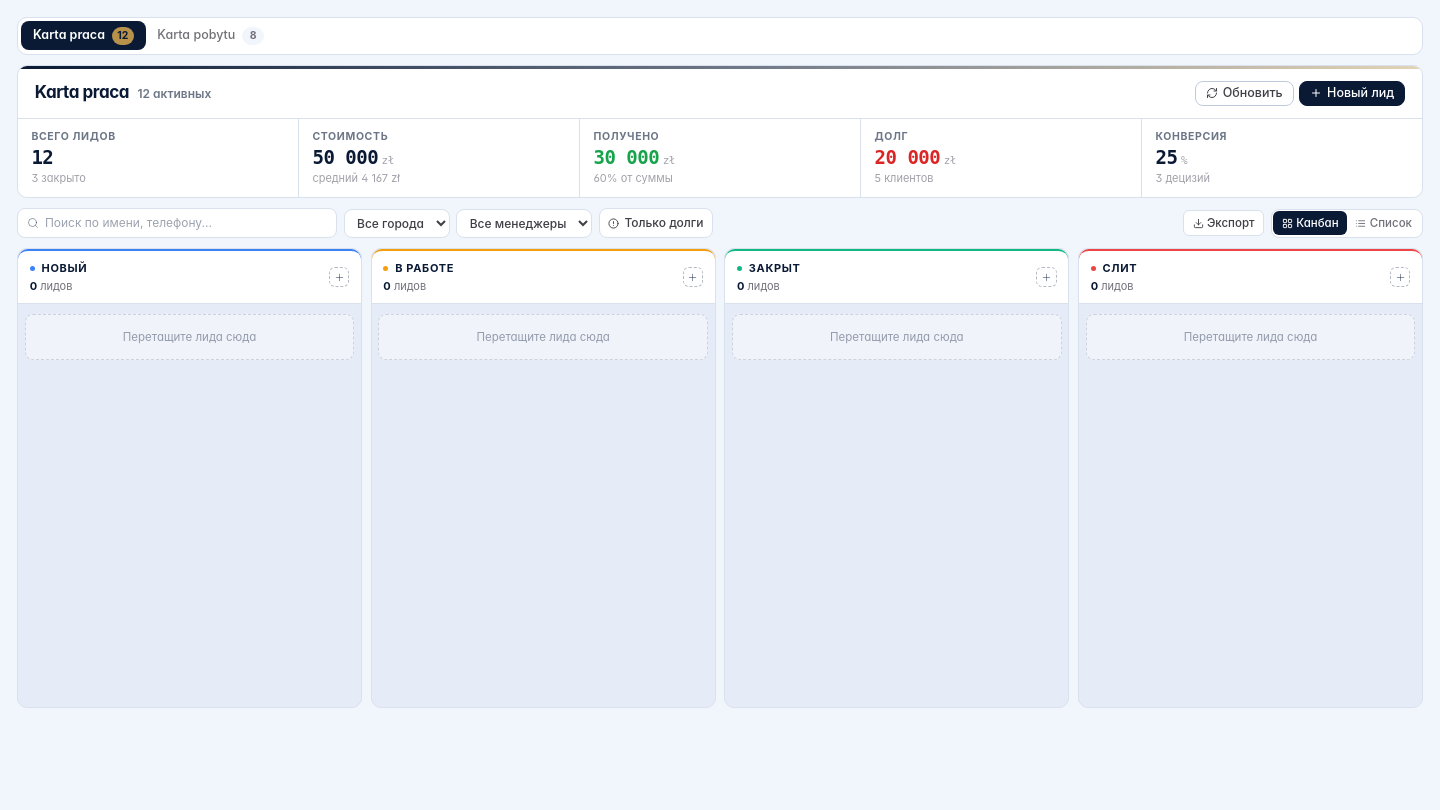
Test: FunnelView — переключение Kanban/List › клик «Список» переключает на list view
Click the button with test id "view-list".
click(1384, 223)  # box left=1347, top=211, right=1420, bottom=235
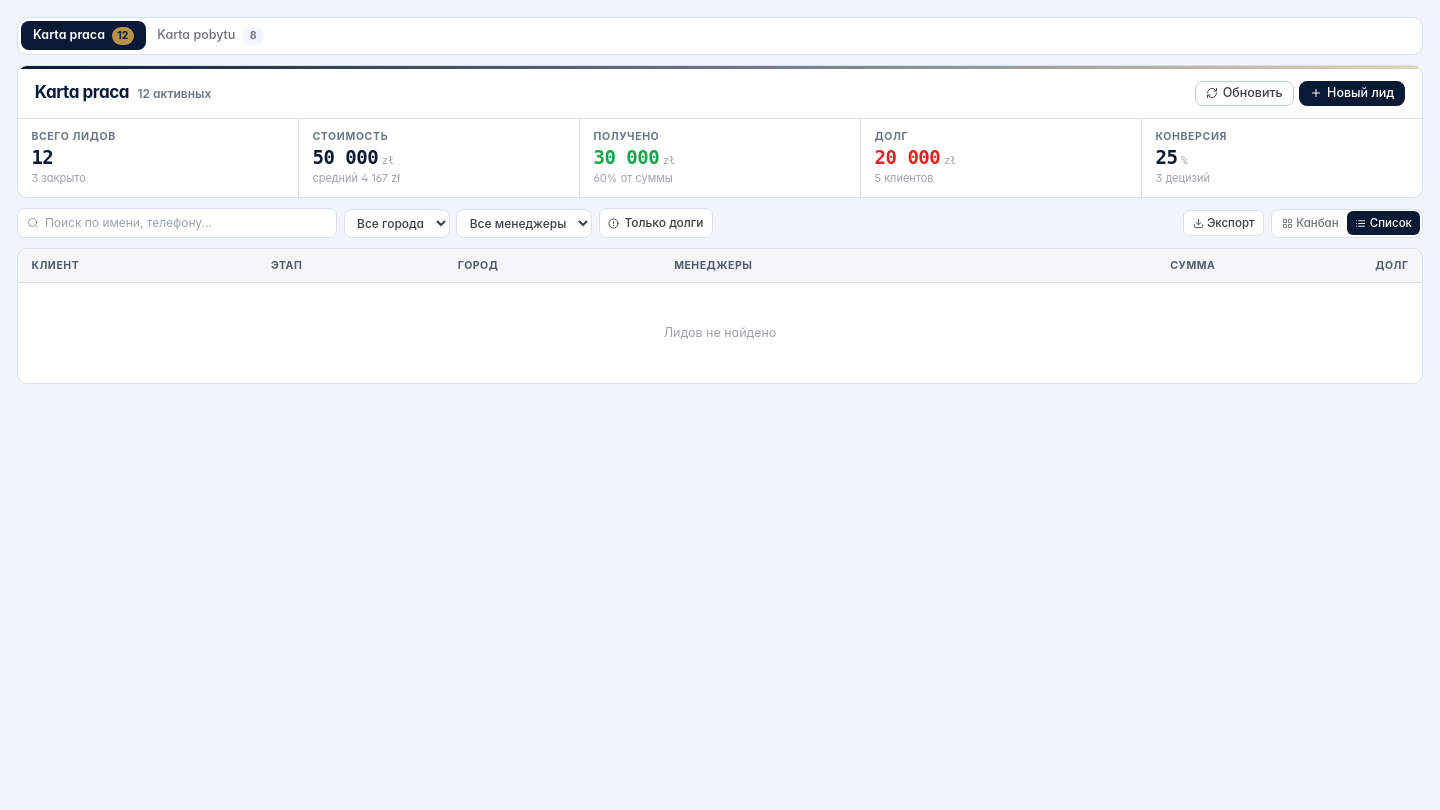
Result: the element with test id "list-view" is shown at left=17, top=248, right=1423, bottom=384
Result: the element with test id "kanban-view" is gone
